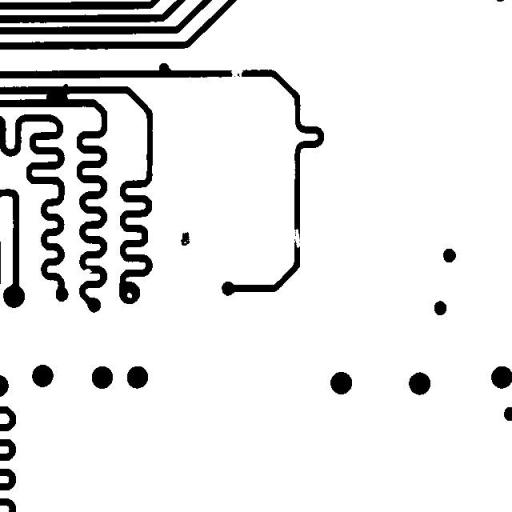copper: (173, 224, 197, 253)
mousebite: (76, 260, 99, 282)
open: (282, 221, 308, 255), (223, 62, 251, 88)
pin-hole: (119, 284, 139, 306)
short: (38, 76, 76, 109)
spur: (152, 55, 178, 82)
